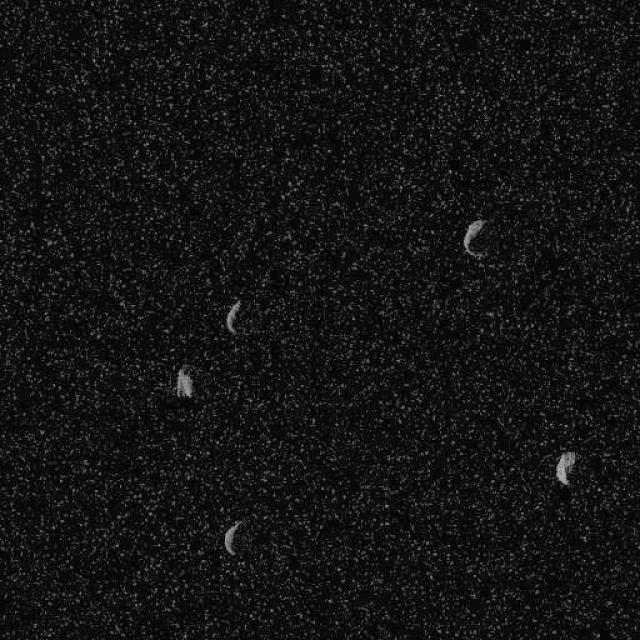D2: (461, 218, 489, 258), (554, 450, 575, 486), (222, 520, 242, 556), (174, 366, 194, 399), (224, 299, 241, 335)
